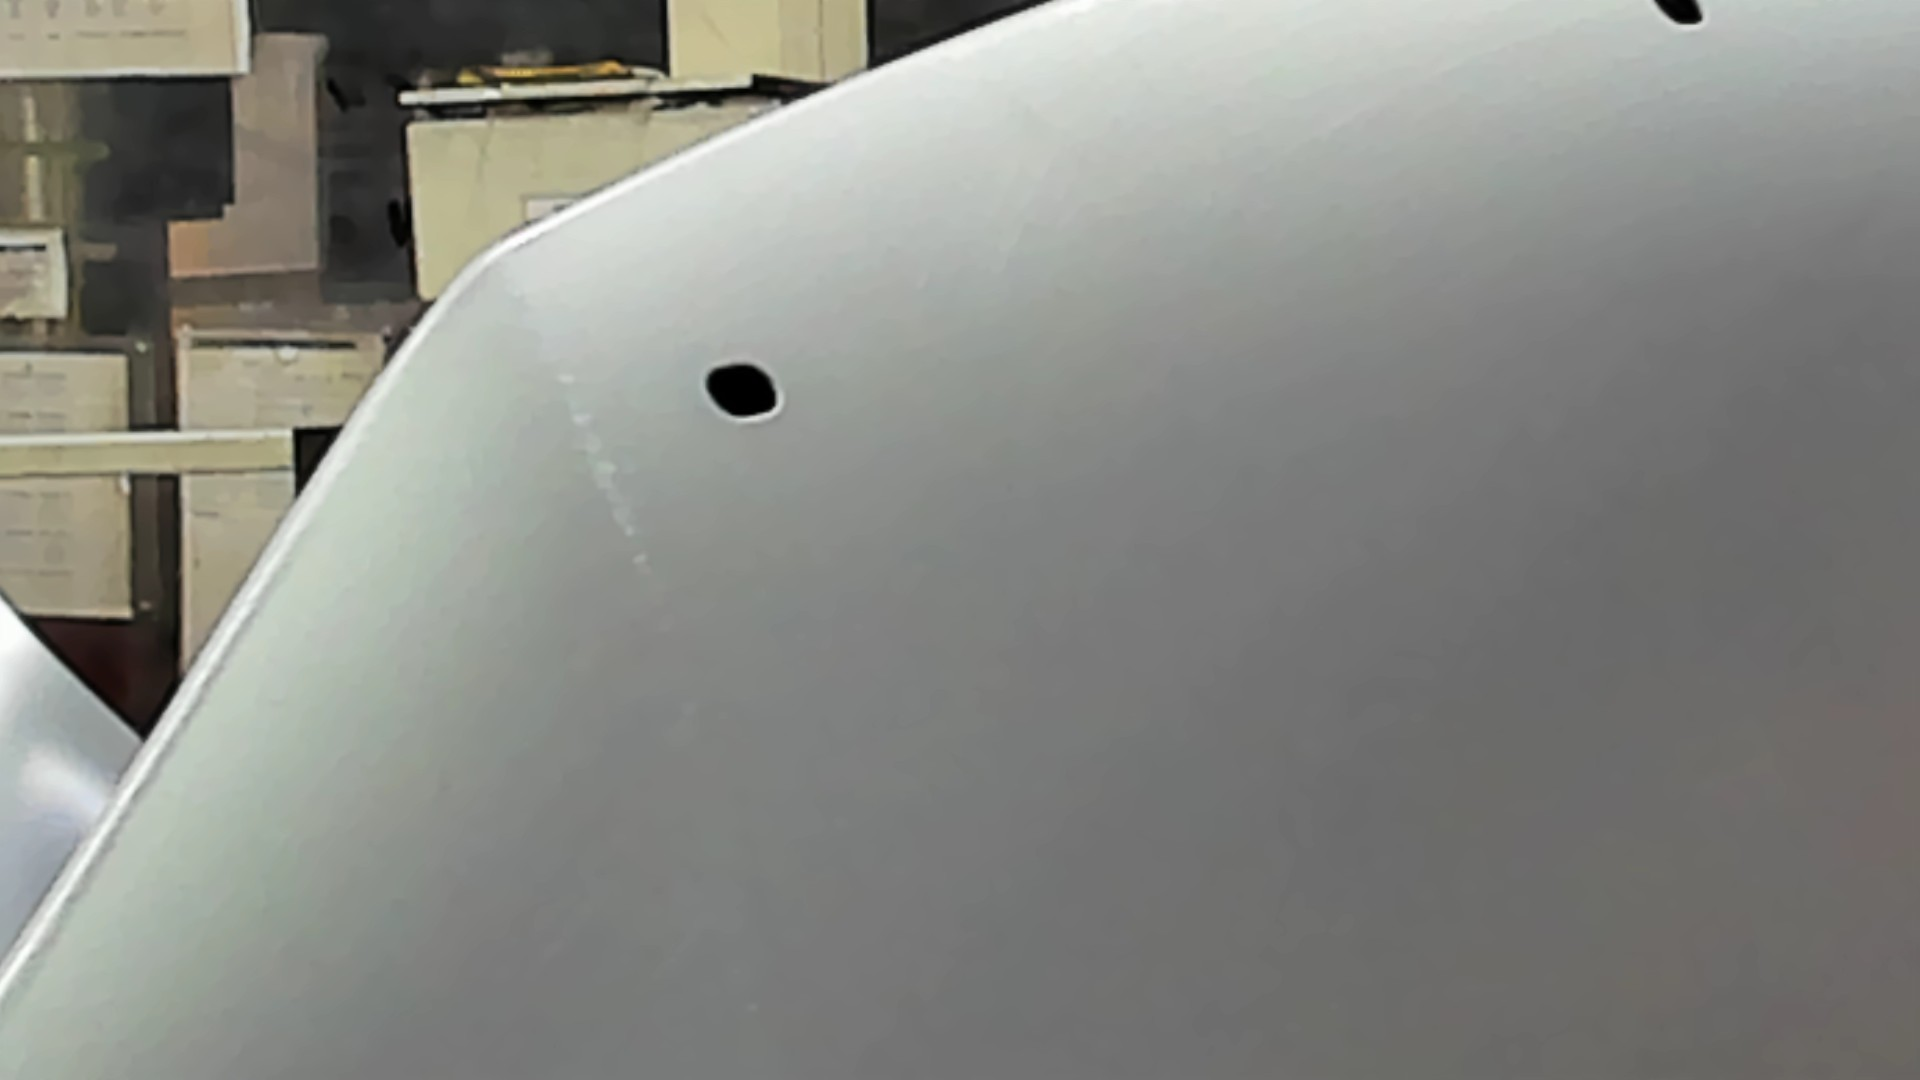amorfo: (698, 357, 786, 426), (1642, 1, 1712, 36)
capo: (860, 105, 1920, 1080)
